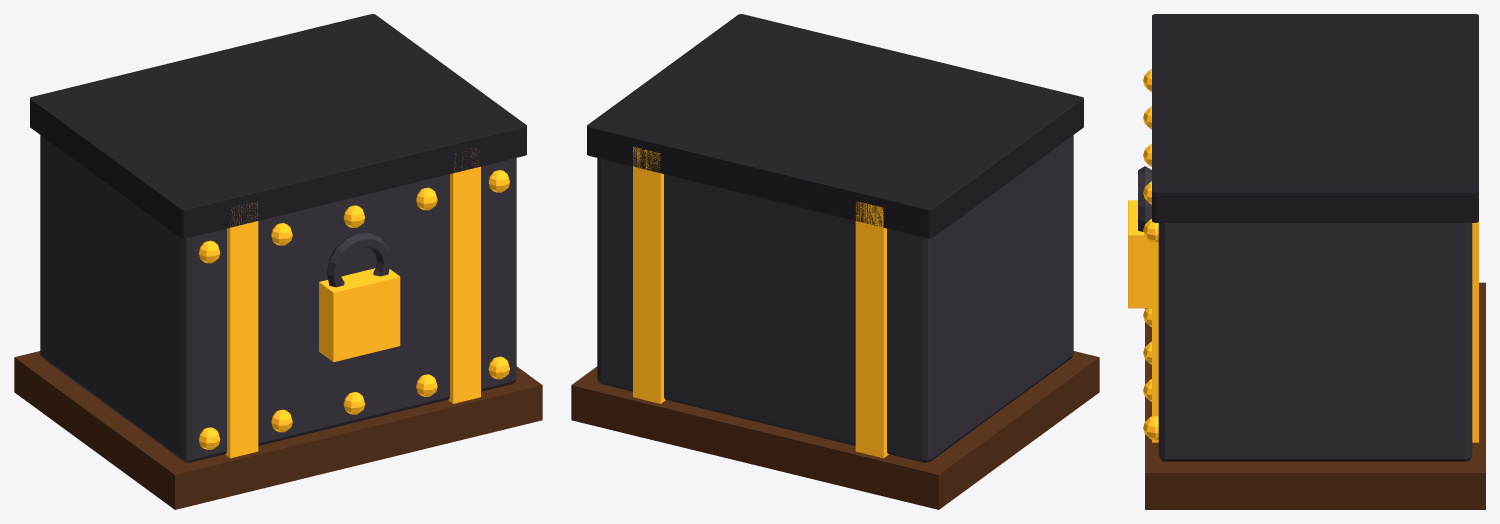
File: camp_vault.glb
3 views of the same model, side by side, from view 1: azimuth 30°, elevation 25°; view 2: azimuth 150°, elevation 25°; view 3: azimuth 270°, elevation 25° (orthographic). The views are drawn at different scales.
Visible parts, largest first — view 1: Cube; view 2: Cube; view 3: Cube.
Boxes of the visible parts, left/top/right/bottom form: Cube: left=14, top=14, right=542, bottom=509; Cube: left=571, top=14, right=1099, bottom=509; Cube: left=1128, top=14, right=1485, bottom=509.
Size of the model in its own units: 0.66 by 0.505 by 0.525.
